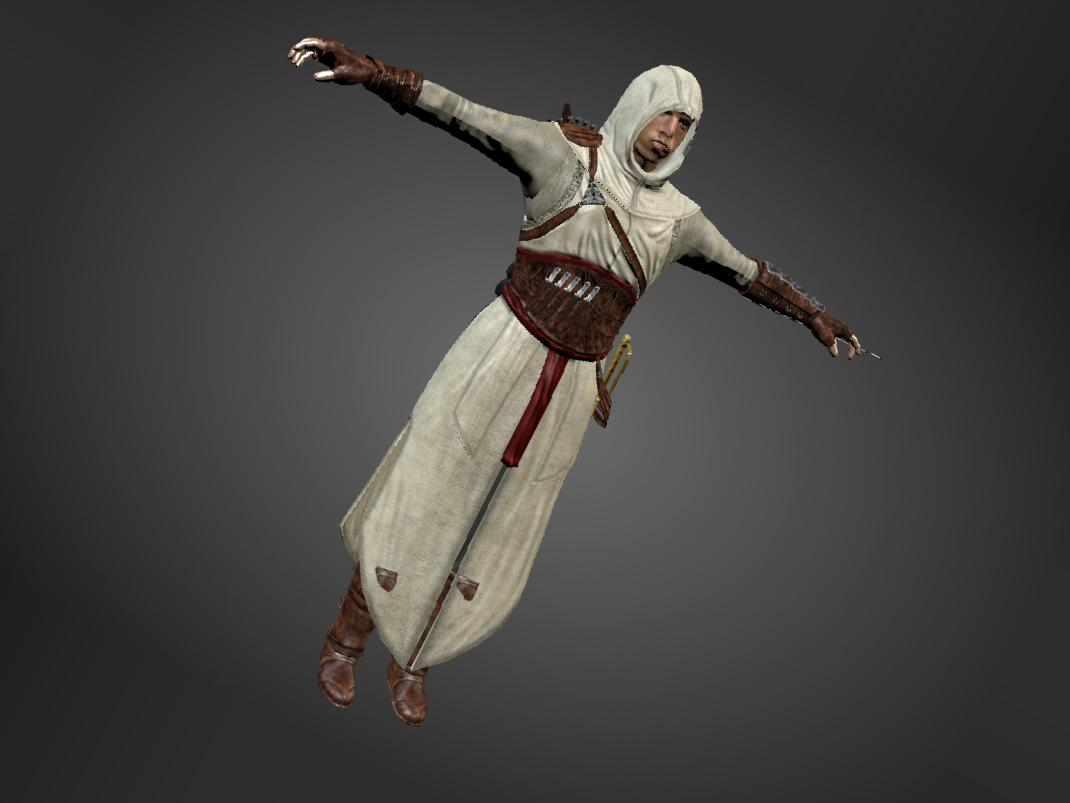clip: (455, 571, 483, 607), (374, 564, 403, 592)
